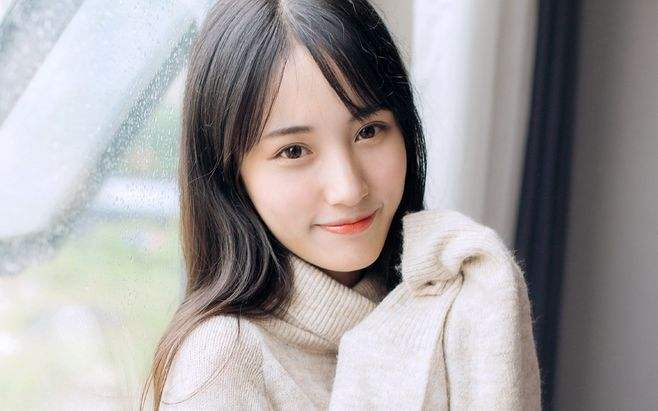person: (90, 11, 540, 411)
